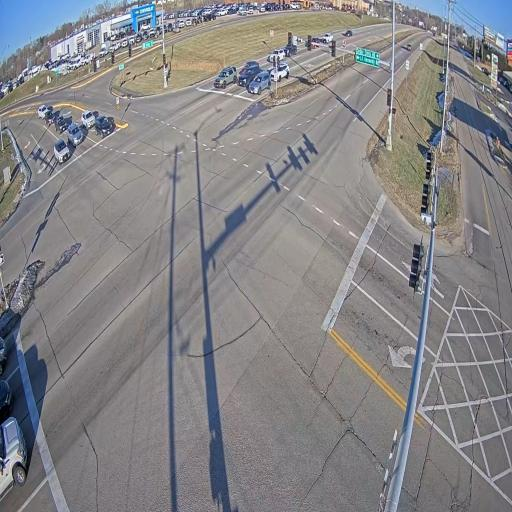pickup: (0, 417, 27, 500), (55, 116, 68, 134), (284, 44, 297, 56), (322, 32, 333, 43)
sedan: (345, 30, 352, 37)
suv: (248, 71, 270, 95), (214, 66, 237, 88), (238, 64, 260, 87), (95, 115, 113, 138), (270, 61, 289, 82), (54, 139, 70, 163), (67, 123, 83, 147), (81, 110, 95, 128), (270, 48, 285, 62), (38, 104, 48, 119), (45, 110, 54, 126)
